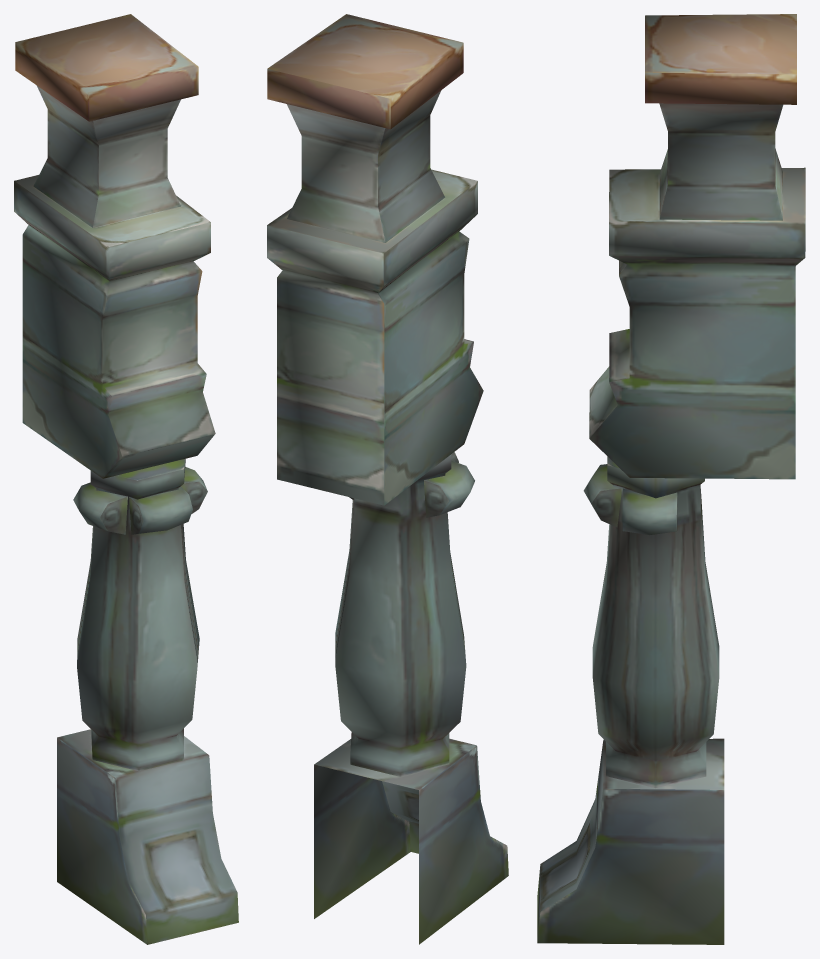
The model's file is Map_06_pillars05.FBX.
3 views of the same model, side by side, from view 1: azimuth 30°, elevation 25°; view 2: azimuth 150°, elevation 25°; view 3: azimuth 270°, elevation 25° (orthographic). The views are drawn at different scales.
Visible parts, largest first — view 1: Map_06_pillars05; view 2: Map_06_pillars05; view 3: Map_06_pillars05.
Part boxes in pixels (x1,y1,x2,y2): Map_06_pillars05: [14, 14, 238, 944]; Map_06_pillars05: [267, 14, 508, 944]; Map_06_pillars05: [537, 14, 805, 944].
Size of the model in its own units: 129 by 225 by 812.
